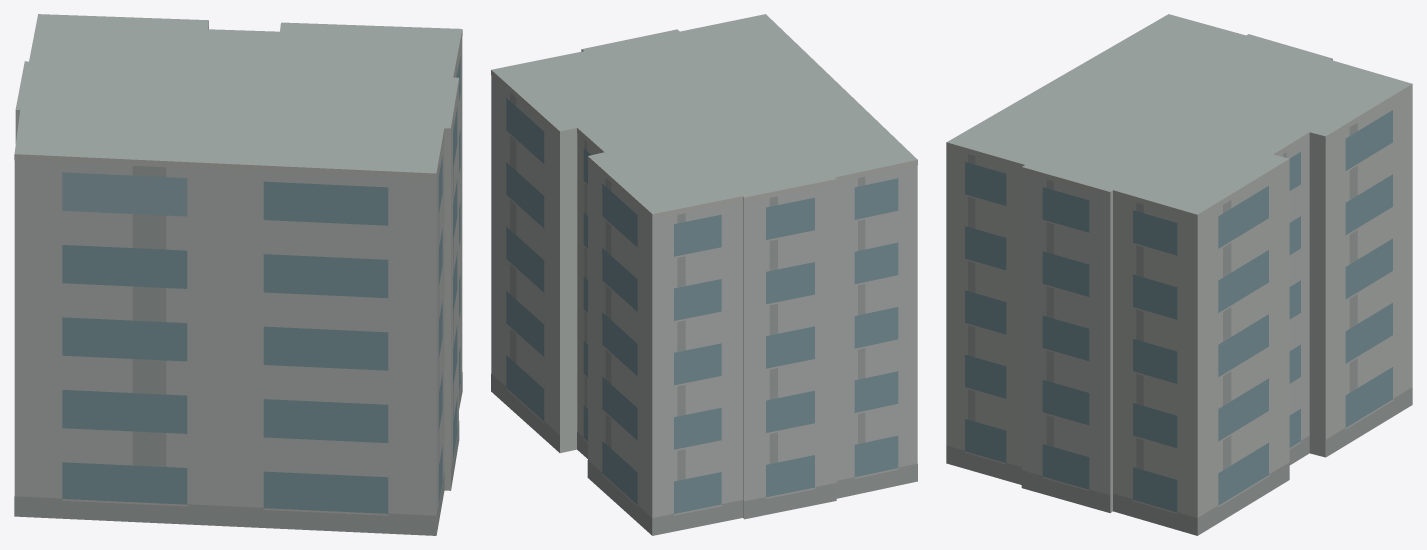
File: survey-upis-32890862.glb
3 views of the same model, side by side, from view 1: azimuth 30°, elevation 25°; view 2: azimuth 150°, elevation 25°; view 3: azimuth 270°, elevation 25° (orthographic). The views are drawn at different scales.
Parts seen in each view (by area): view 1: survey-upis-32890862.tmp; view 2: survey-upis-32890862.tmp; view 3: survey-upis-32890862.tmp.
Part boxes in pixels (bbox=[...]): survey-upis-32890862.tmp: bbox=[14, 14, 462, 535]; survey-upis-32890862.tmp: bbox=[491, 14, 917, 535]; survey-upis-32890862.tmp: bbox=[946, 14, 1412, 535].
Size of the model in its own units: 19.05 by 14.2 by 18.69.
